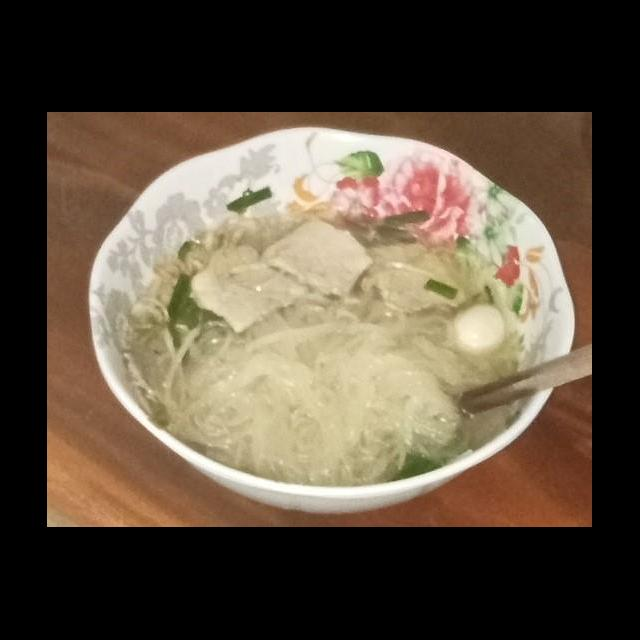banh hu tieu: (160, 294, 464, 492)
hu tieu: (93, 135, 576, 503)
thit heo: (185, 240, 312, 336), (256, 214, 378, 302), (358, 238, 471, 318)
trung: (450, 300, 508, 360)
